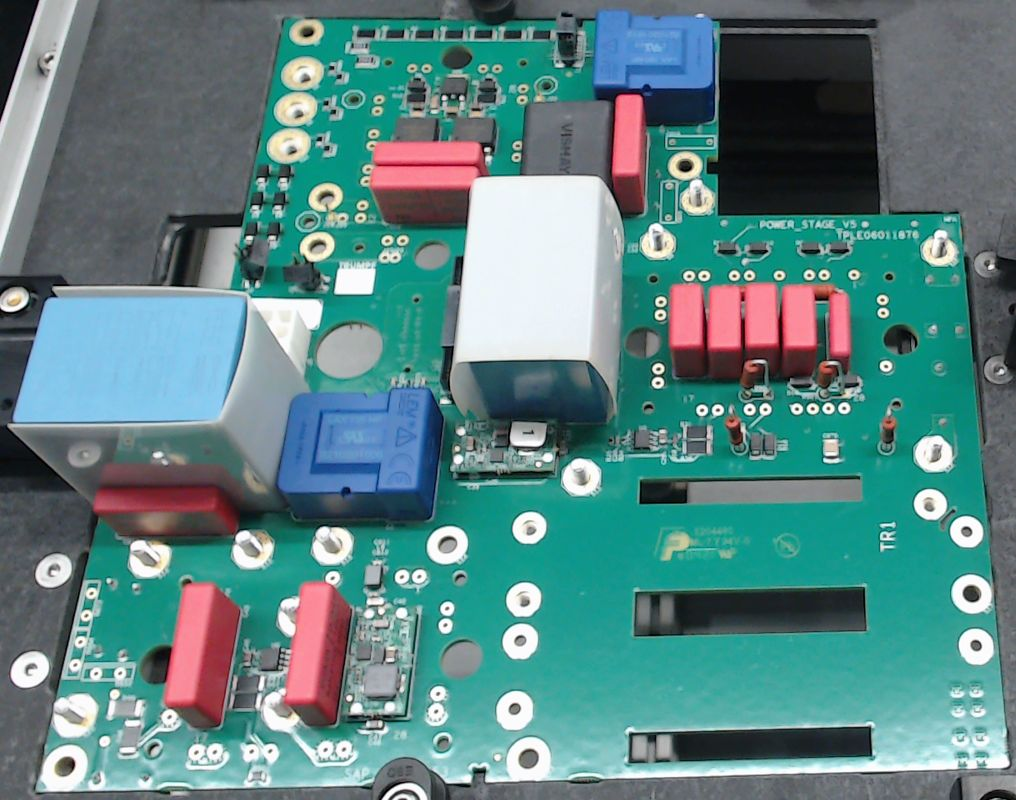comp1: (278, 385, 444, 522), (591, 11, 715, 123)
comp2: (163, 582, 241, 729), (285, 582, 351, 728), (86, 486, 238, 534), (367, 163, 481, 224), (608, 93, 649, 215), (669, 281, 707, 381), (741, 280, 779, 373), (707, 283, 743, 380), (781, 281, 815, 379), (371, 141, 484, 166), (827, 290, 851, 374)
comp3: (521, 98, 613, 180)
comp4: (8, 284, 312, 514), (450, 174, 627, 422)
